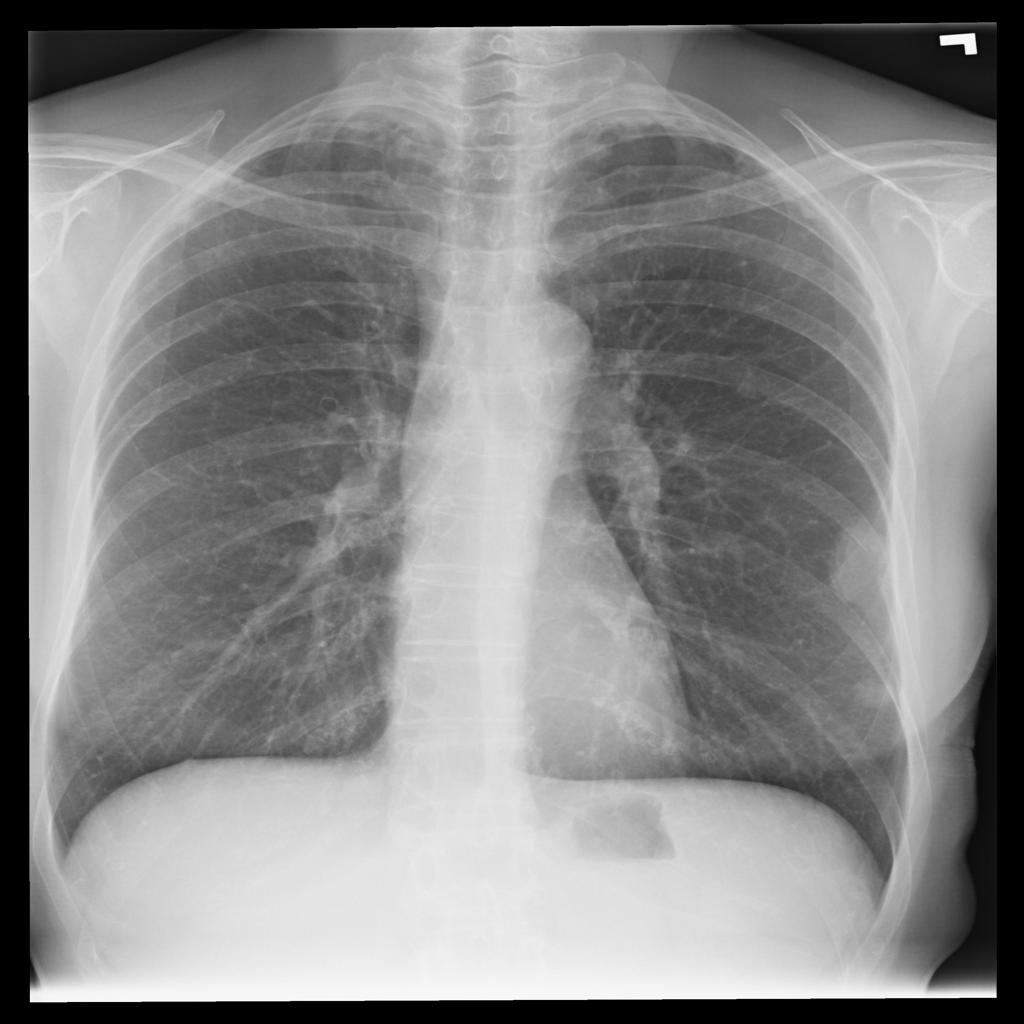nodule: (809, 504, 906, 620), (845, 666, 905, 712), (722, 361, 780, 406)
